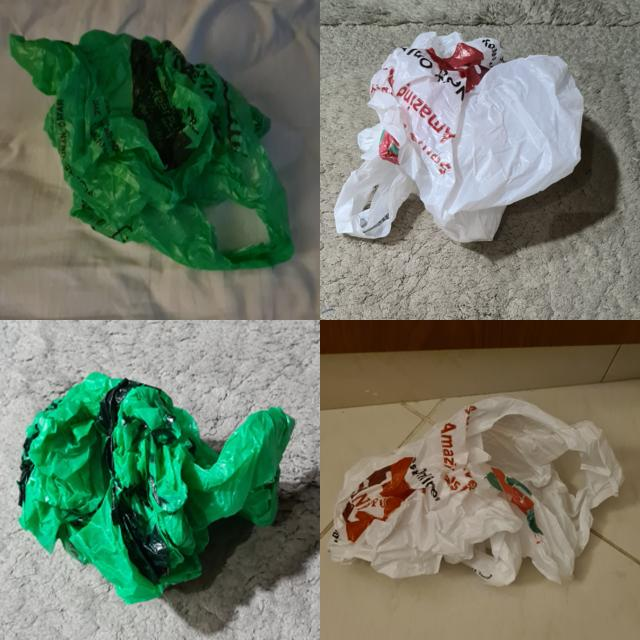Single-layer Plastic: (10, 30, 294, 270), (19, 372, 295, 604), (329, 396, 622, 586), (335, 32, 584, 242)
